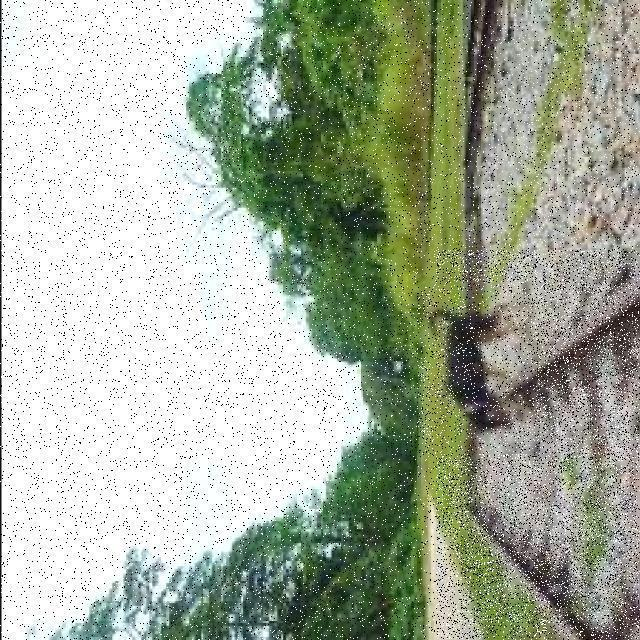rail: (438, 252, 640, 640)
